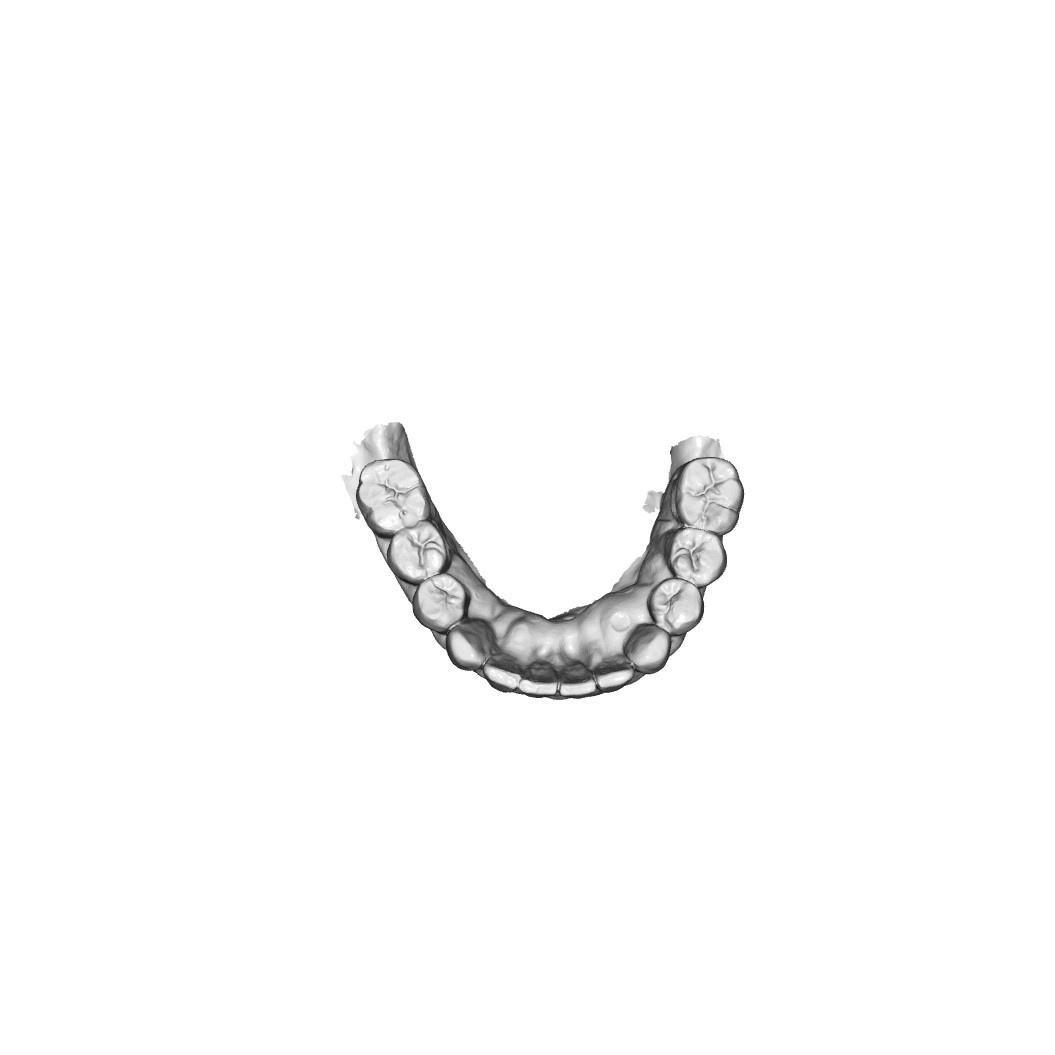canine: (450, 620, 496, 668), (630, 627, 670, 672)
incisor: (479, 652, 525, 695), (560, 661, 602, 702), (597, 659, 637, 694), (521, 660, 555, 698)
molar: (359, 454, 429, 533), (676, 455, 747, 531)
premolar: (412, 568, 473, 631), (670, 524, 730, 585), (387, 523, 449, 582), (650, 576, 701, 634)
